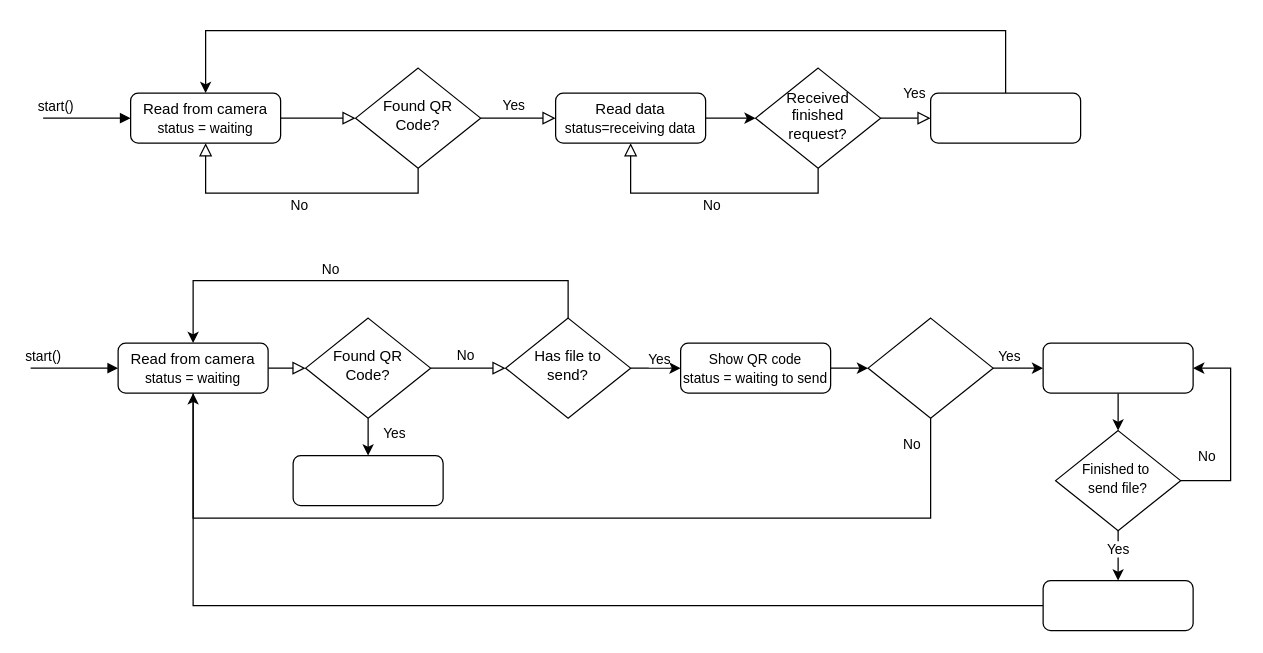
Some shapes in this 1263 by 653 pixel diagram are drawn without their labels. The shapes that lost their labels are listed below. From the top down, each one's box as (x1, y1, x2, y2) in pixels, then its label:
(929, 92, 1081, 143): Save file, status=waiting
(867, 317, 993, 418): Send file acknowledged?
(1042, 342, 1193, 393): Send file loop status = sent data
(292, 454, 443, 506): Receive file flow
(1042, 579, 1193, 631): Wait for finish ack status = finished
